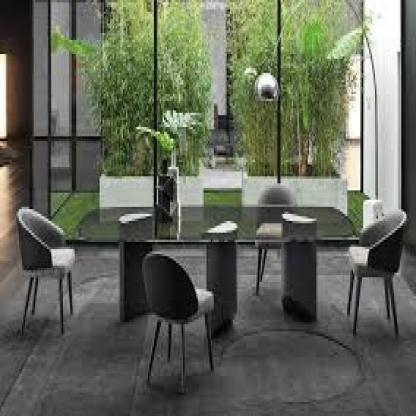Dining Table: (33, 193, 401, 355)
